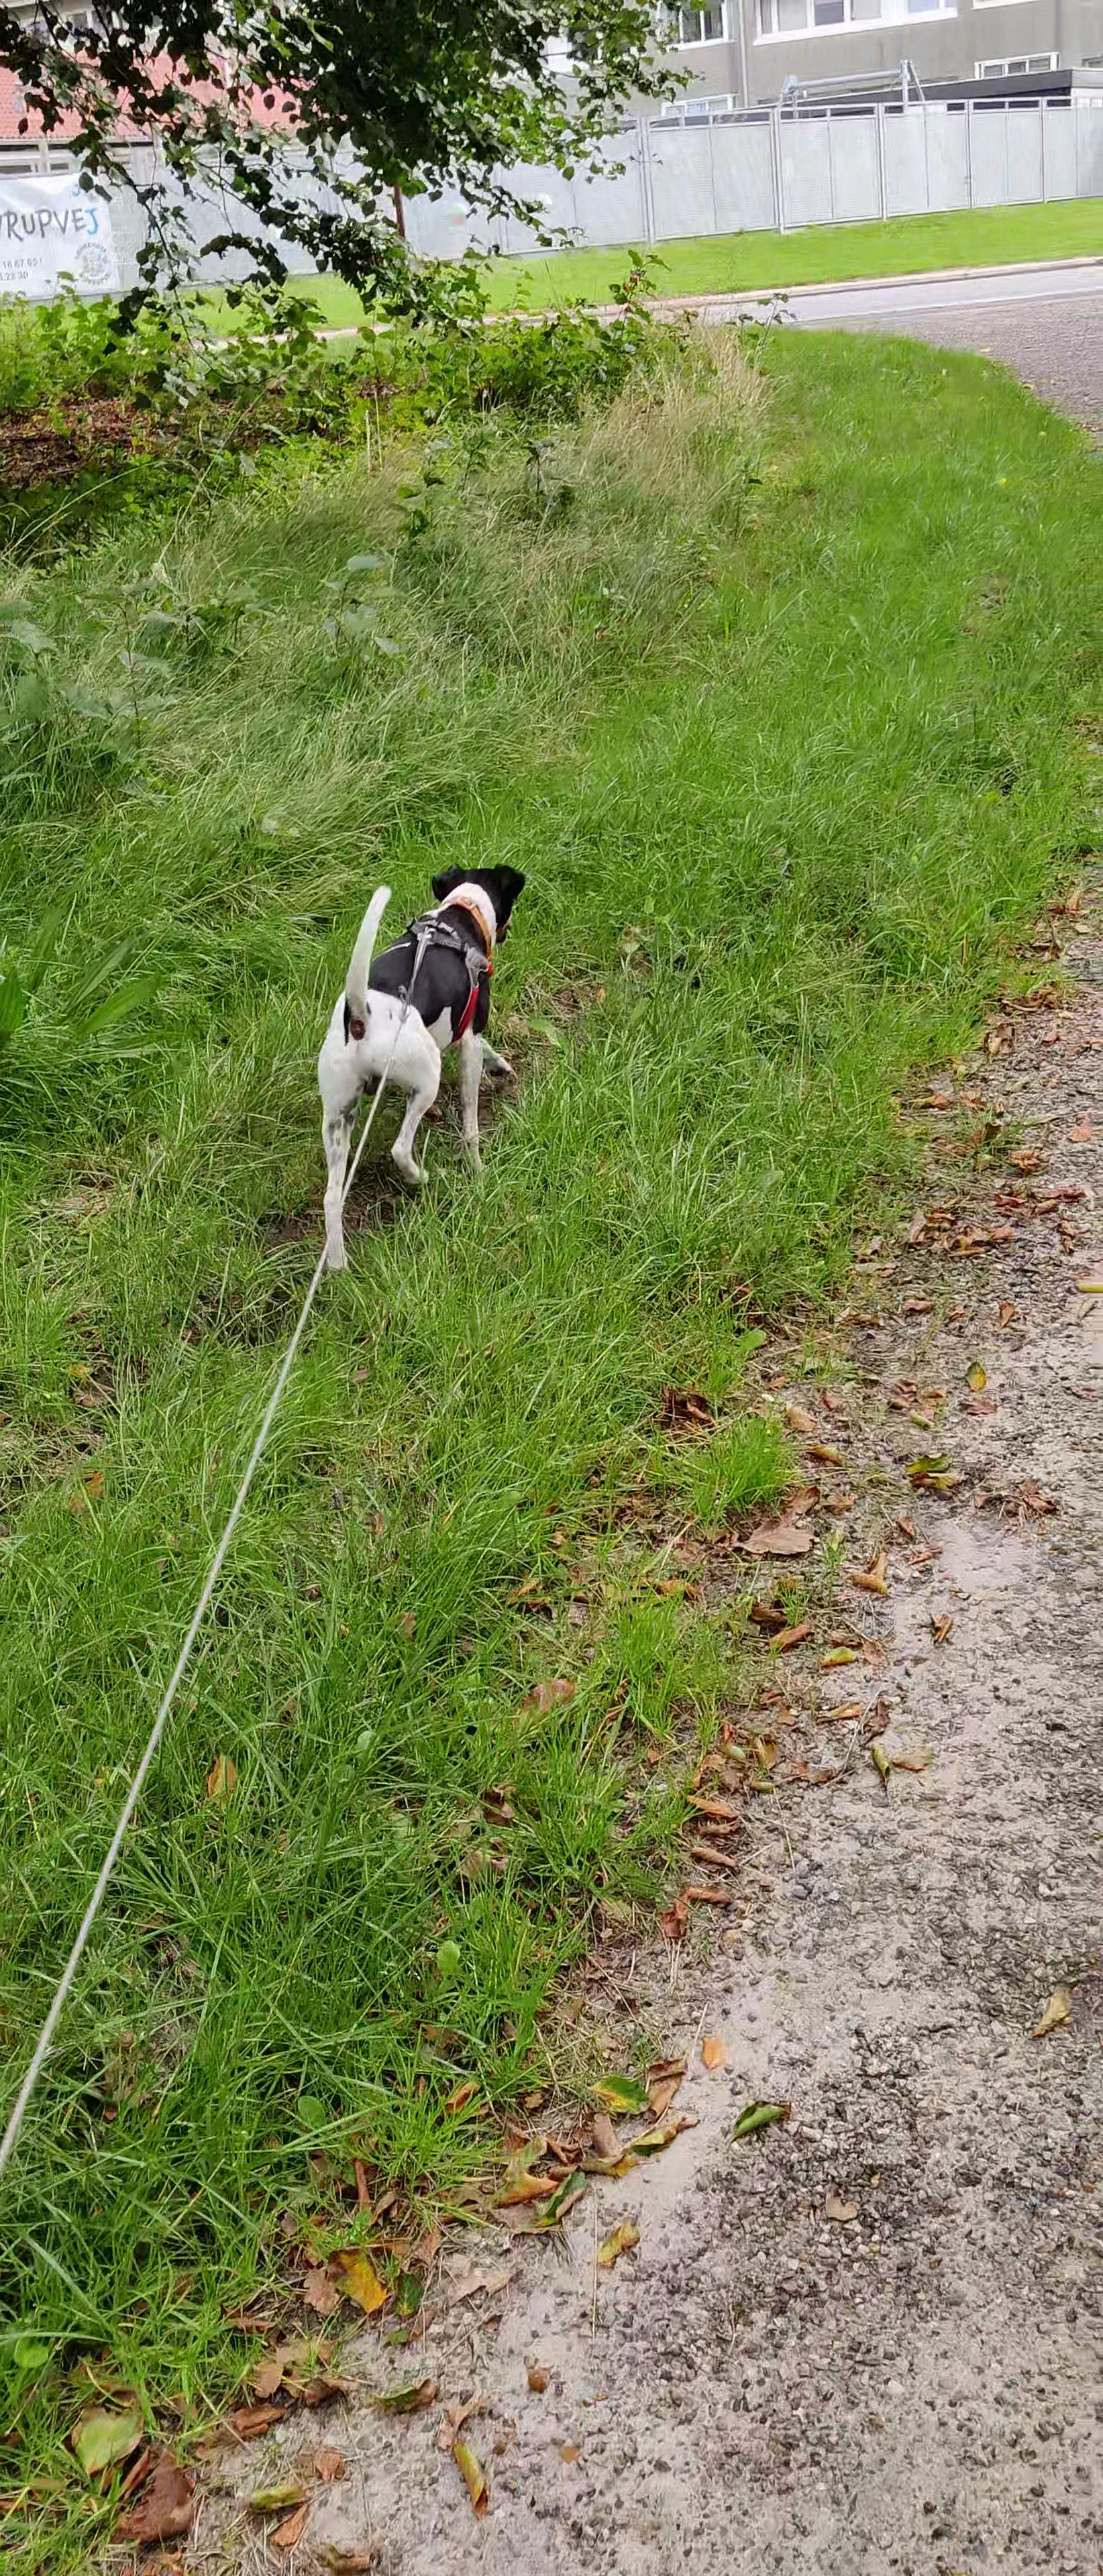Dog: (258, 859, 547, 1275)
